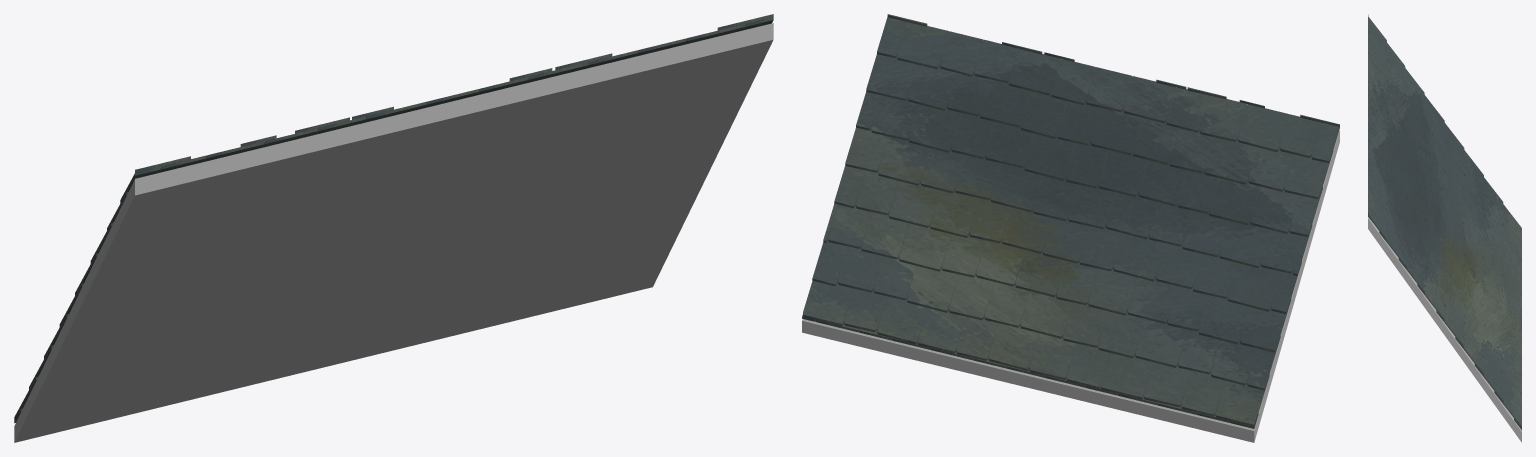
File: CM_SlateRoofKit01_Panel4x2p4_56p9.fbx
3 views of the same model, side by side, from view 1: azimuth 30°, elevation 25°; view 2: azimuth 150°, elevation 25°; view 3: azimuth 270°, elevation 25° (orthographic). The views are drawn at different scales.
Visible parts, largest first — view 1: CM_SlateRoofKit01_Panel4x2p4_56p9_Underlay, CM_SlateRoofKit01_Panel4x2p4_56p9_Slate; view 2: CM_SlateRoofKit01_Panel4x2p4_56p9_Slate, CM_SlateRoofKit01_Panel4x2p4_56p9_Underlay; view 3: CM_SlateRoofKit01_Panel4x2p4_56p9_Slate, CM_SlateRoofKit01_Panel4x2p4_56p9_Underlay.
Boxes of the visible parts, x1,y1,x2,y2 form: CM_SlateRoofKit01_Panel4x2p4_56p9_Underlay: (14, 23, 773, 442); CM_SlateRoofKit01_Panel4x2p4_56p9_Slate: (14, 14, 773, 423); CM_SlateRoofKit01_Panel4x2p4_56p9_Slate: (802, 14, 1339, 428); CM_SlateRoofKit01_Panel4x2p4_56p9_Underlay: (802, 130, 1339, 442); CM_SlateRoofKit01_Panel4x2p4_56p9_Slate: (1368, 14, 1521, 429); CM_SlateRoofKit01_Panel4x2p4_56p9_Underlay: (1368, 217, 1521, 442).
Bounding box in the file's own units: 4 × 2.16 × 1.31.
